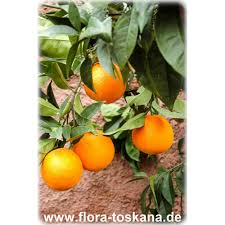orange: (78, 62, 127, 103), (41, 146, 84, 190), (131, 113, 173, 156), (74, 129, 115, 170)
